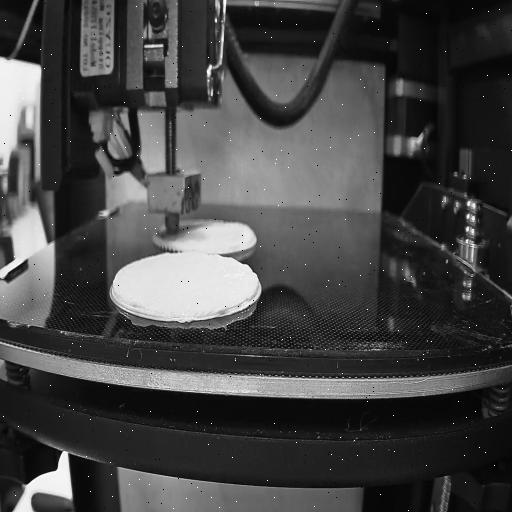over_extrusion: (244, 272, 264, 311)
